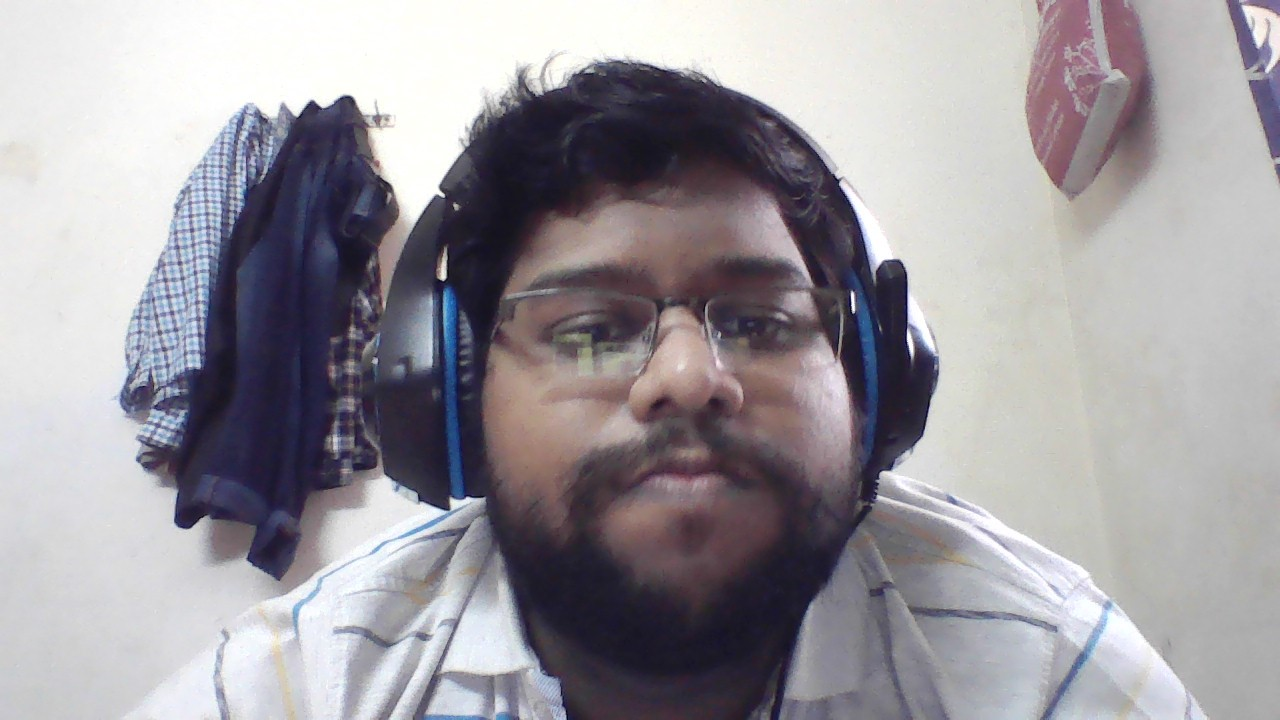NoMask: (496, 359, 867, 585)
